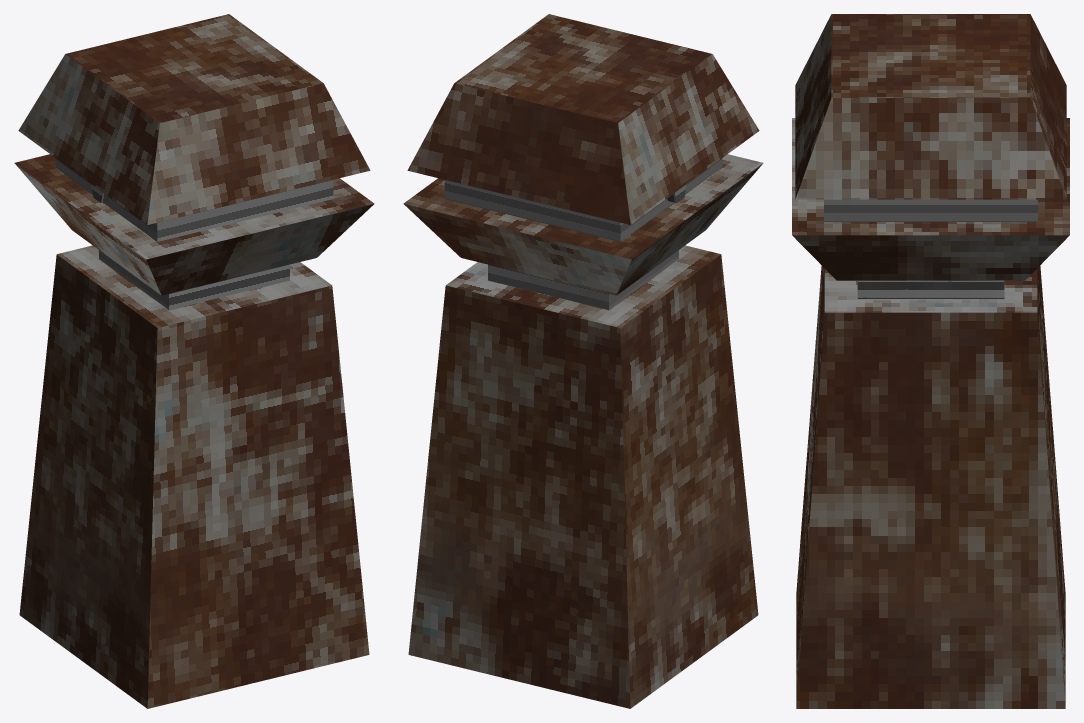
The model's file is robot.glb.
The picture shows the model from 3 angles, left to right: view 1: azimuth 30°, elevation 25°; view 2: azimuth 150°, elevation 25°; view 3: azimuth 270°, elevation 25°; orthographic projection. The views are drawn at different scales.
Visible parts, largest first — view 1: Cube; view 2: Cube; view 3: Cube.
Boxes of the visible parts, x1=… form: Cube: x1=14, y1=14, x2=374, y2=708; Cube: x1=403, y1=14, x2=763, y2=708; Cube: x1=792, y1=14, x2=1069, y2=708.
Bounding box in the file's own units: 2.06 × 4.88 × 2.06.
Materials: 2 (2 with a texture image).
